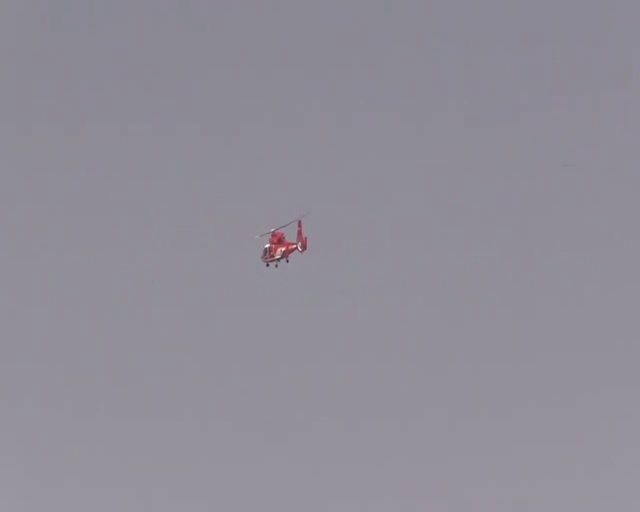HELICOPTER: (256, 212, 310, 268)
